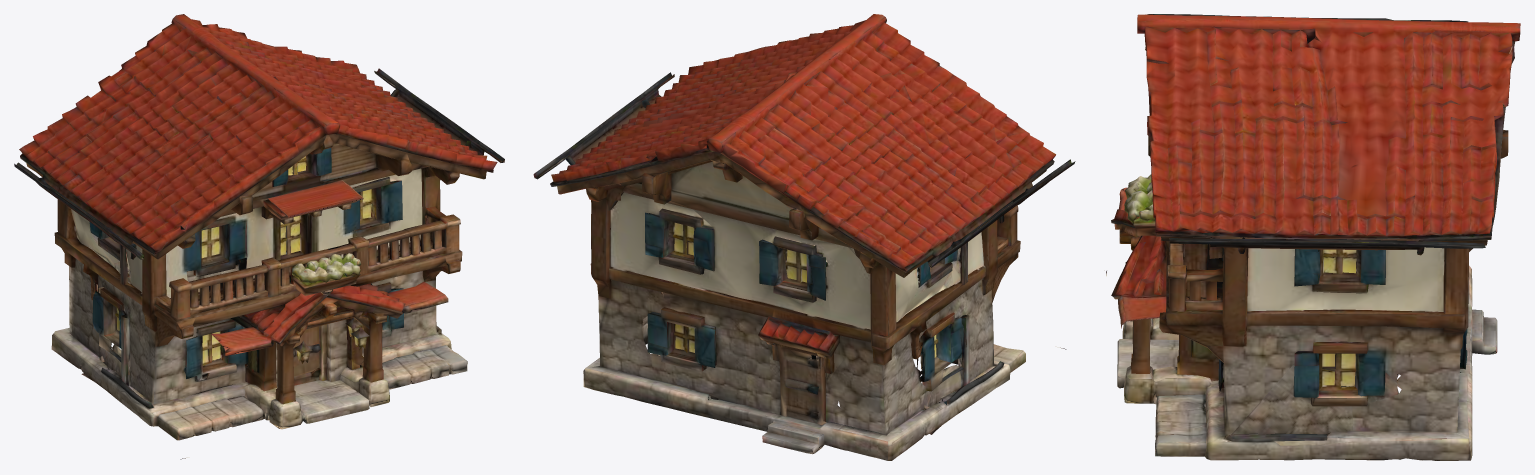
3 views of the same model, side by side, from view 1: azimuth 30°, elevation 25°; view 2: azimuth 150°, elevation 25°; view 3: azimuth 270°, elevation 25° (orthographic). The views are drawn at different scales.
Parts seen in each view (by area): view 1: alpine__hotel_2__native_mobile; view 2: alpine__hotel_2__native_mobile; view 3: alpine__hotel_2__native_mobile.
Boxes of the visible parts, box(x1,y1,x2,y2) form: alpine__hotel_2__native_mobile: box(14, 14, 504, 459); alpine__hotel_2__native_mobile: box(533, 14, 1075, 460); alpine__hotel_2__native_mobile: box(1106, 14, 1520, 460).
Size of the model in its own units: 1 by 0.739 by 0.7772.
Materials: 1 (1 with a texture image).
